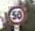limite 50: (5, 5, 26, 24)
